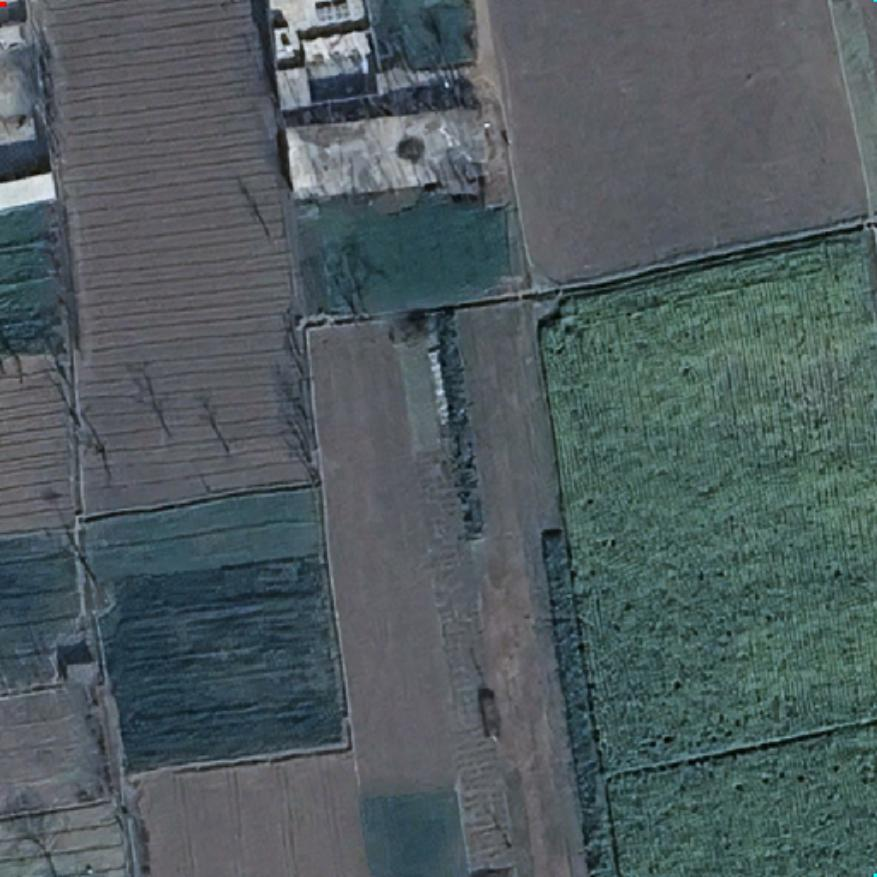Solarpanel: (312, 0, 352, 22)
